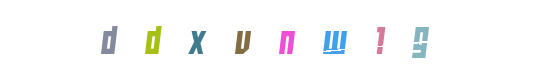1: (295, 0, 375, 80)
D: (82, 0, 162, 80), (113, 0, 193, 80)
G: (325, 0, 405, 80)
N: (235, 0, 315, 80)
V: (202, 0, 282, 80)
W: (280, 0, 360, 80)
X: (157, 0, 237, 80)
